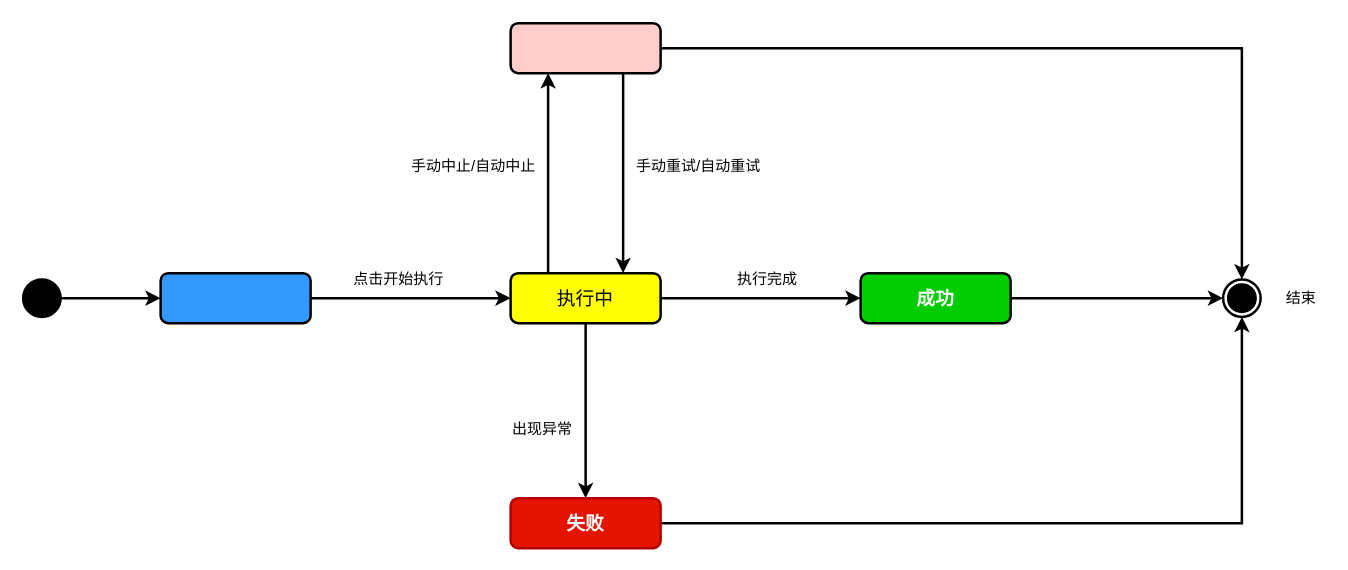
Image size: 1348x570. Some labels were removed from this diagram. Here are the shapes that lost their labels. From the top down, the box of each, then its label:
(509, 21, 661, 74): 暂停
(159, 271, 311, 324): 待启动
